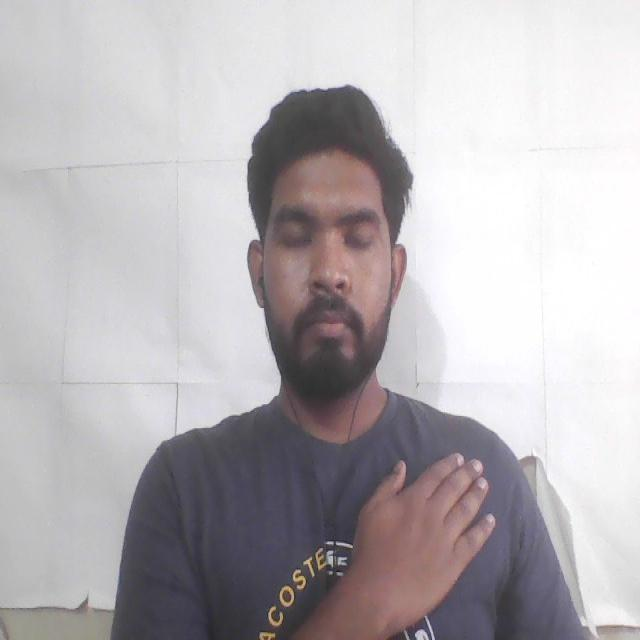Please: (305, 440, 520, 640)
